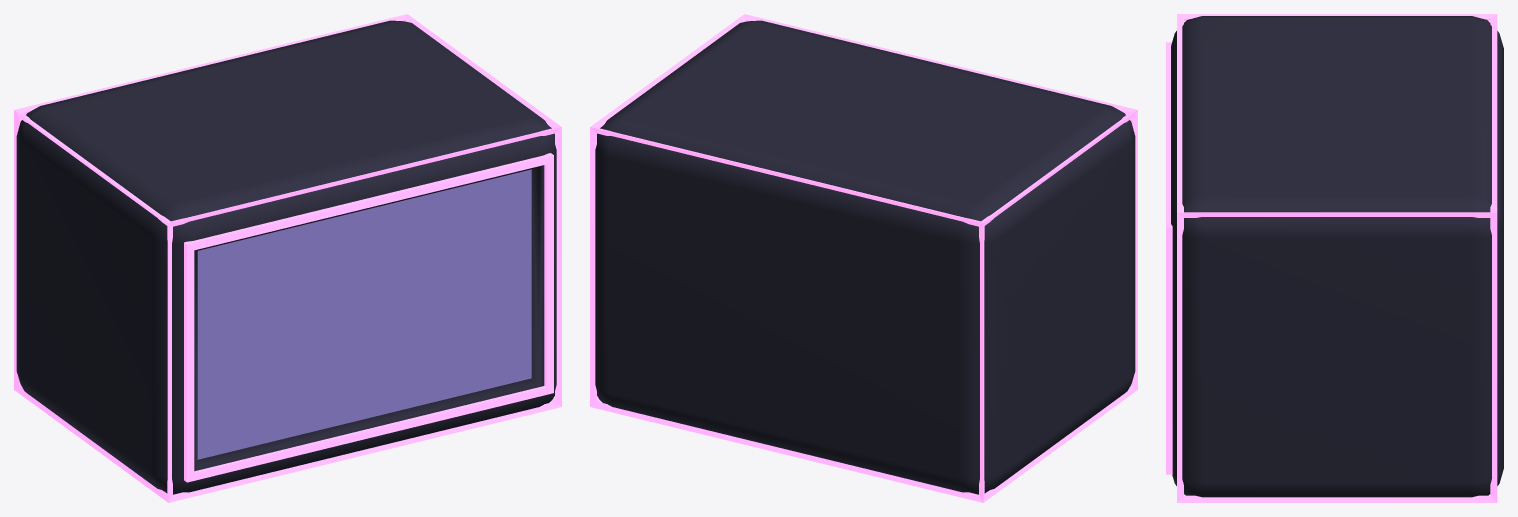
The model's file is block.glb.
3 views of the same model, side by side, from view 1: azimuth 30°, elevation 25°; view 2: azimuth 150°, elevation 25°; view 3: azimuth 270°, elevation 25° (orthographic). The views are drawn at different scales.
Visible parts, largest first — view 1: body, face, edge; view 2: body, edge; view 3: body, edge.
Part boxes in pixels (<box>): body: <box>16,20,556,494</box>; face: <box>197,169,531,459</box>; edge: <box>14,14,561,502</box>; body: <box>595,20,1135,494</box>; edge: <box>590,14,1137,502</box>; body: <box>1171,16,1503,497</box>; edge: <box>1166,14,1497,502</box>.
Size of the model in its own units: 0.9 by 0.62 by 0.628.
